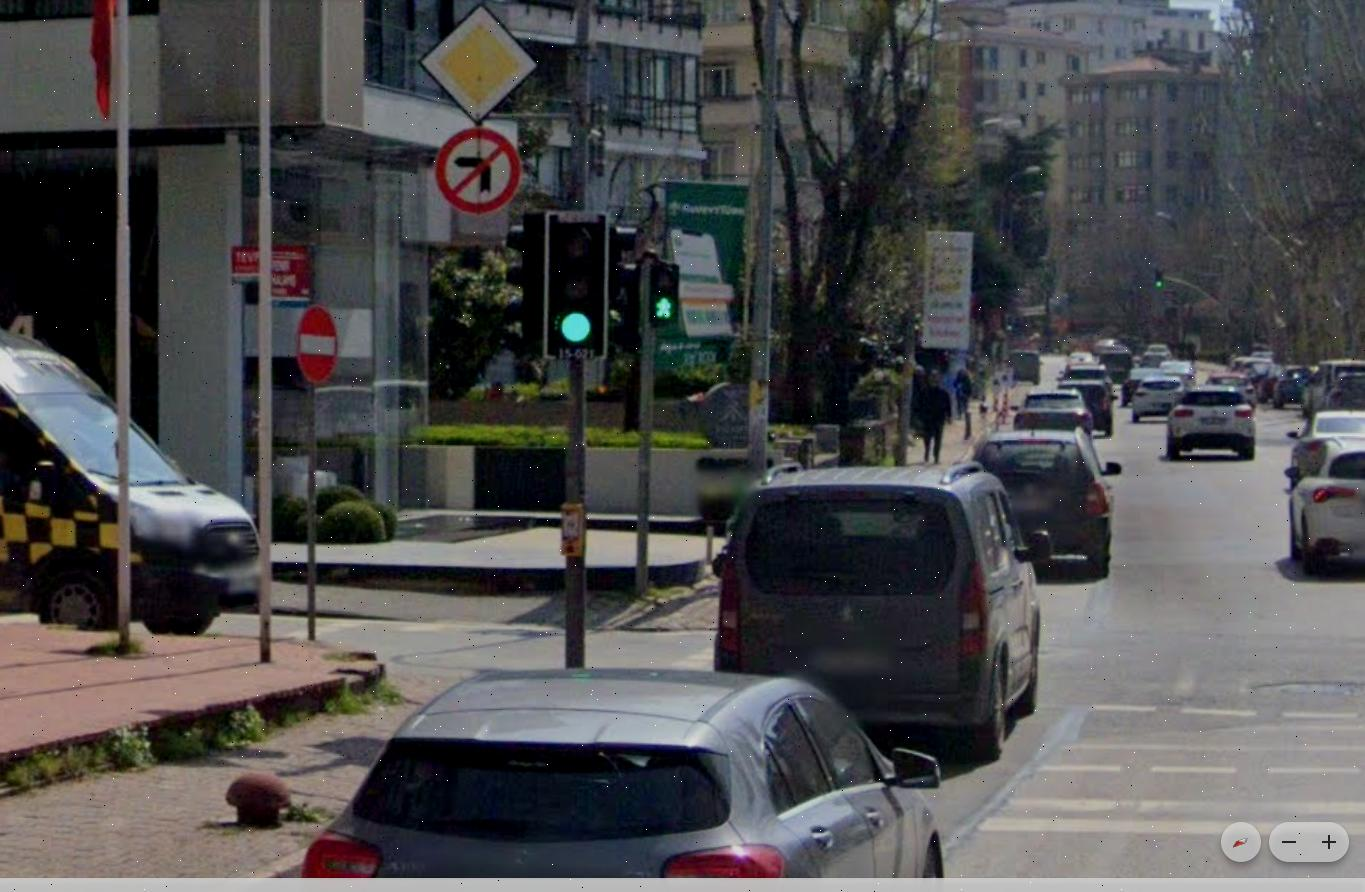greenlight: (544, 214, 611, 361), (1149, 264, 1170, 295)
leftturnsareforbidden: (440, 130, 518, 202)
